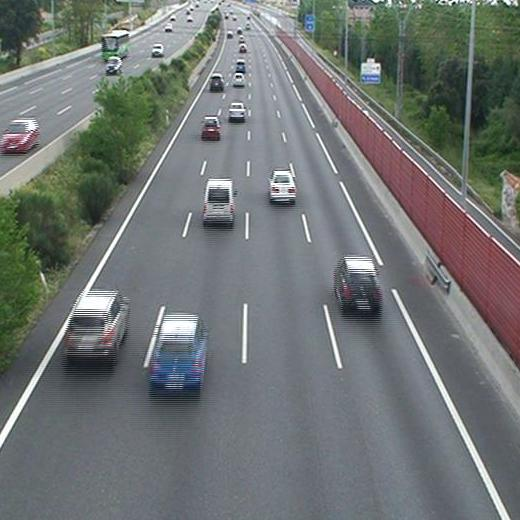car: (150, 316, 204, 389), (66, 293, 127, 353), (335, 258, 381, 309), (269, 171, 296, 201), (201, 117, 219, 137), (228, 103, 245, 119), (210, 74, 222, 88), (232, 74, 244, 85), (238, 43, 248, 54), (234, 61, 244, 71)
van: (203, 179, 235, 222)
